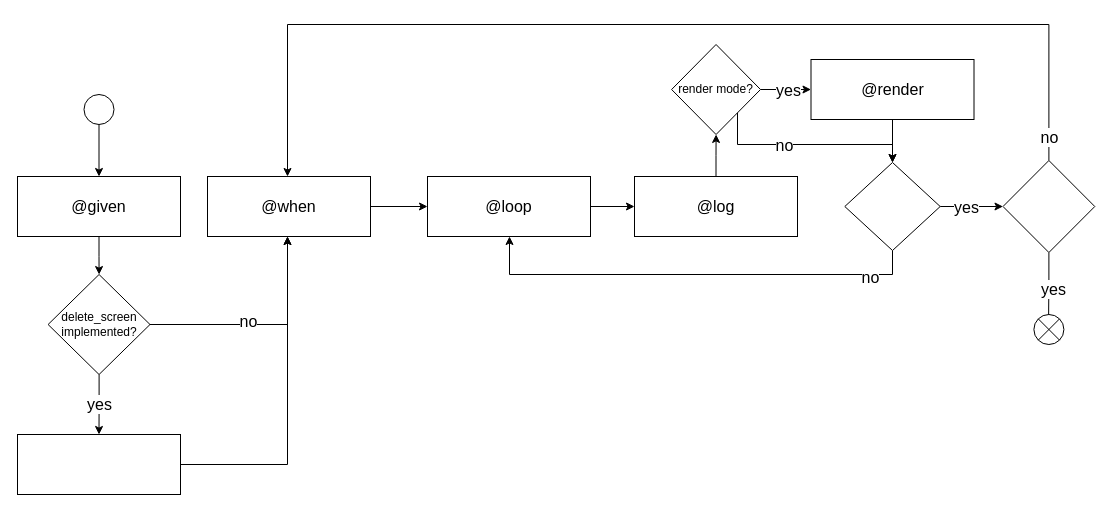
The diagram is 1113 pixels wide and 512 high, and some of its shapes have lost their labels. The box of each missing label's shape, as (x1, y1, x2, y2) in pixels:
@delete_screen: (16, 434, 180, 494)
game terminated?: (844, 162, 940, 250)
training finished?: (1002, 160, 1095, 252)
